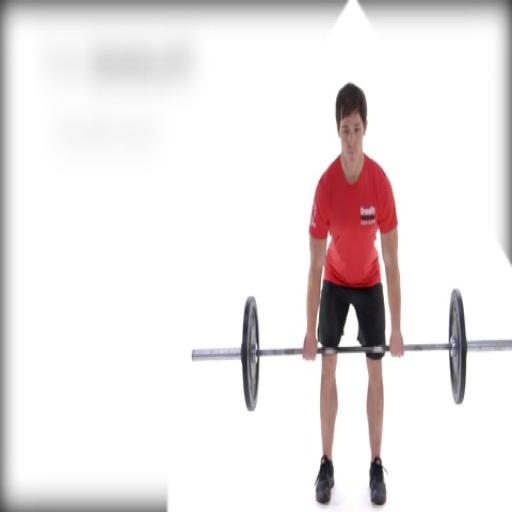exercise: (300, 81, 405, 508)
